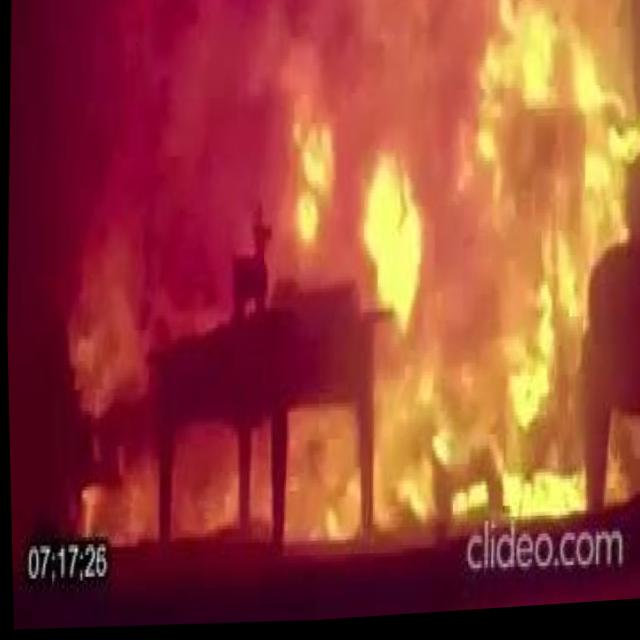fire: (367, 241, 591, 530), (265, 0, 468, 311), (453, 0, 640, 249), (63, 206, 158, 415), (281, 412, 360, 540), (66, 465, 158, 545), (176, 433, 236, 535)
